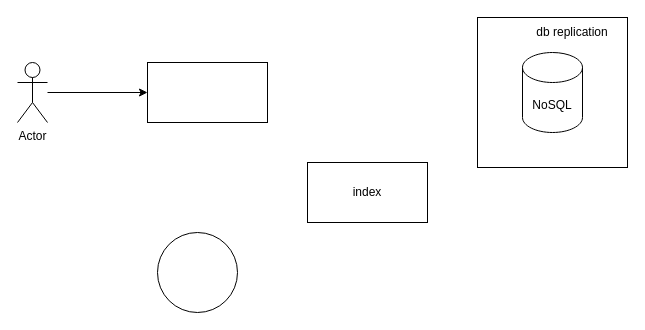
The diagram is 645 pixels wide and 330 high, and some of its shapes have lost their labels. Each missing label, with the centre of its shape:
new documents: pixel 197 272
results: pixel 207 92
